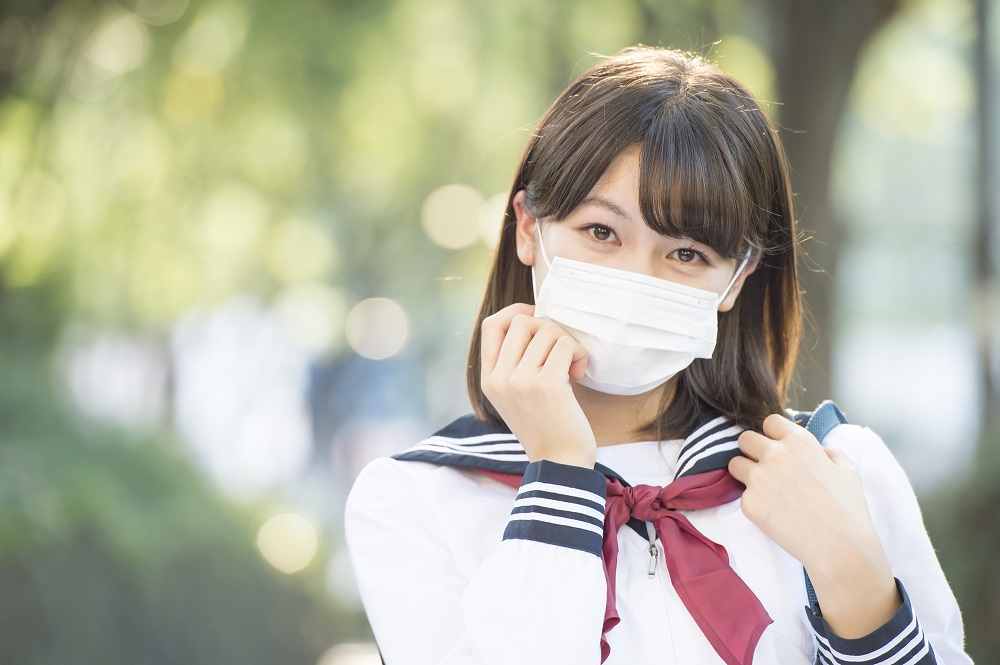mask: (524, 159, 769, 403)
